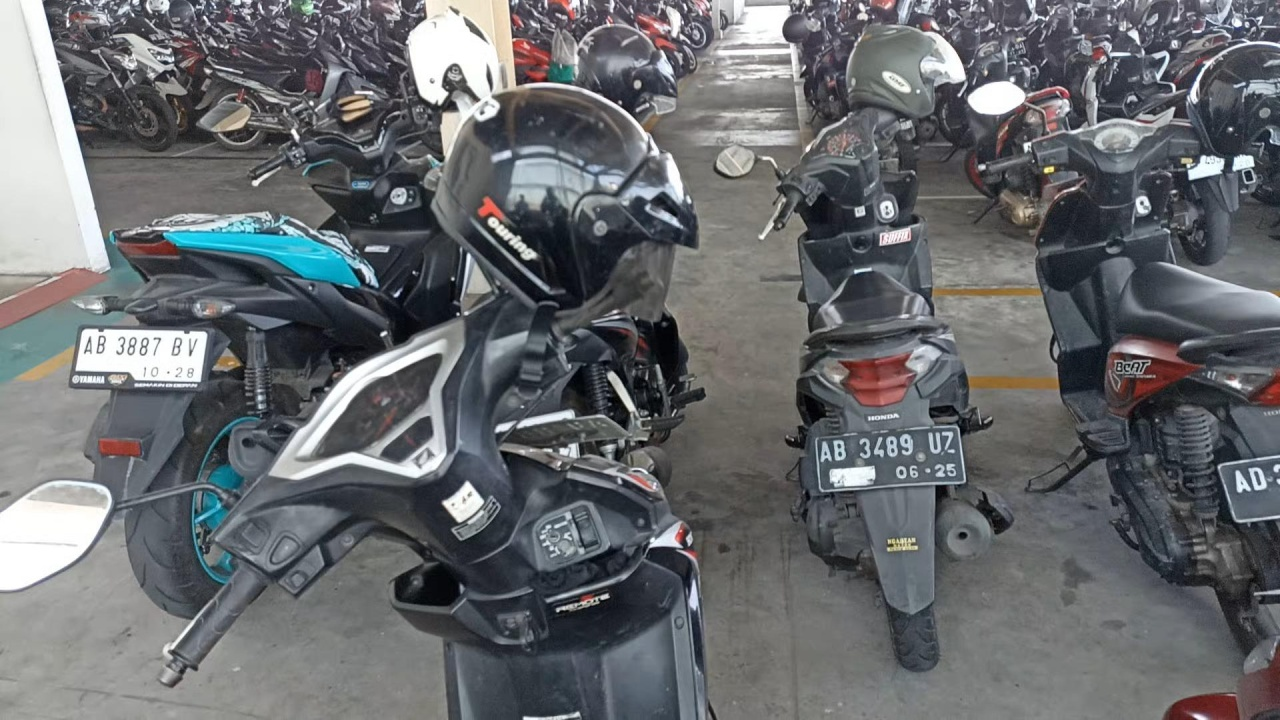plate: (816, 424, 967, 491), (72, 327, 211, 388)
